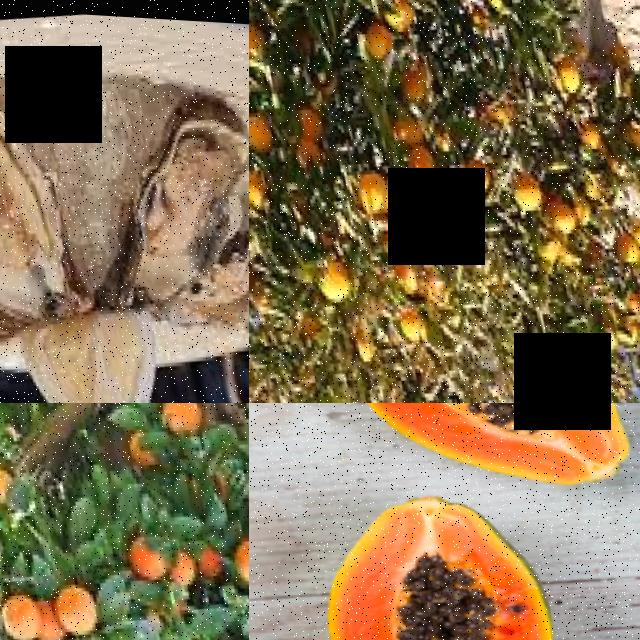orange: (41, 572, 92, 633), (416, 160, 460, 207), (349, 165, 388, 213), (0, 585, 34, 639), (118, 534, 158, 578), (310, 256, 347, 300), (541, 190, 574, 235), (505, 163, 538, 207), (222, 530, 249, 582), (361, 17, 393, 58), (153, 403, 200, 428), (549, 50, 579, 88), (249, 106, 269, 152), (607, 226, 632, 258), (249, 163, 263, 209), (626, 210, 640, 239)
oysters: (86, 86, 249, 310), (0, 85, 77, 325), (165, 211, 249, 336)
pawpaw: (295, 470, 562, 640), (333, 403, 635, 519)
